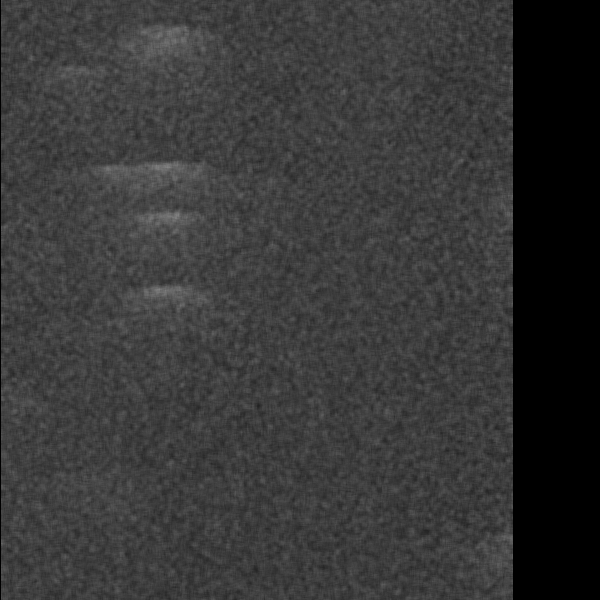spark: (280, 104, 377, 169), (288, 274, 353, 335), (180, 1, 233, 49)
